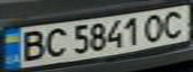1: (121, 16, 145, 46)
4: (106, 17, 127, 50)
5: (69, 21, 90, 55)
8: (87, 20, 109, 52)
B: (12, 28, 51, 63)
C: (157, 7, 193, 39), (39, 25, 69, 58)
O: (139, 11, 172, 43)
